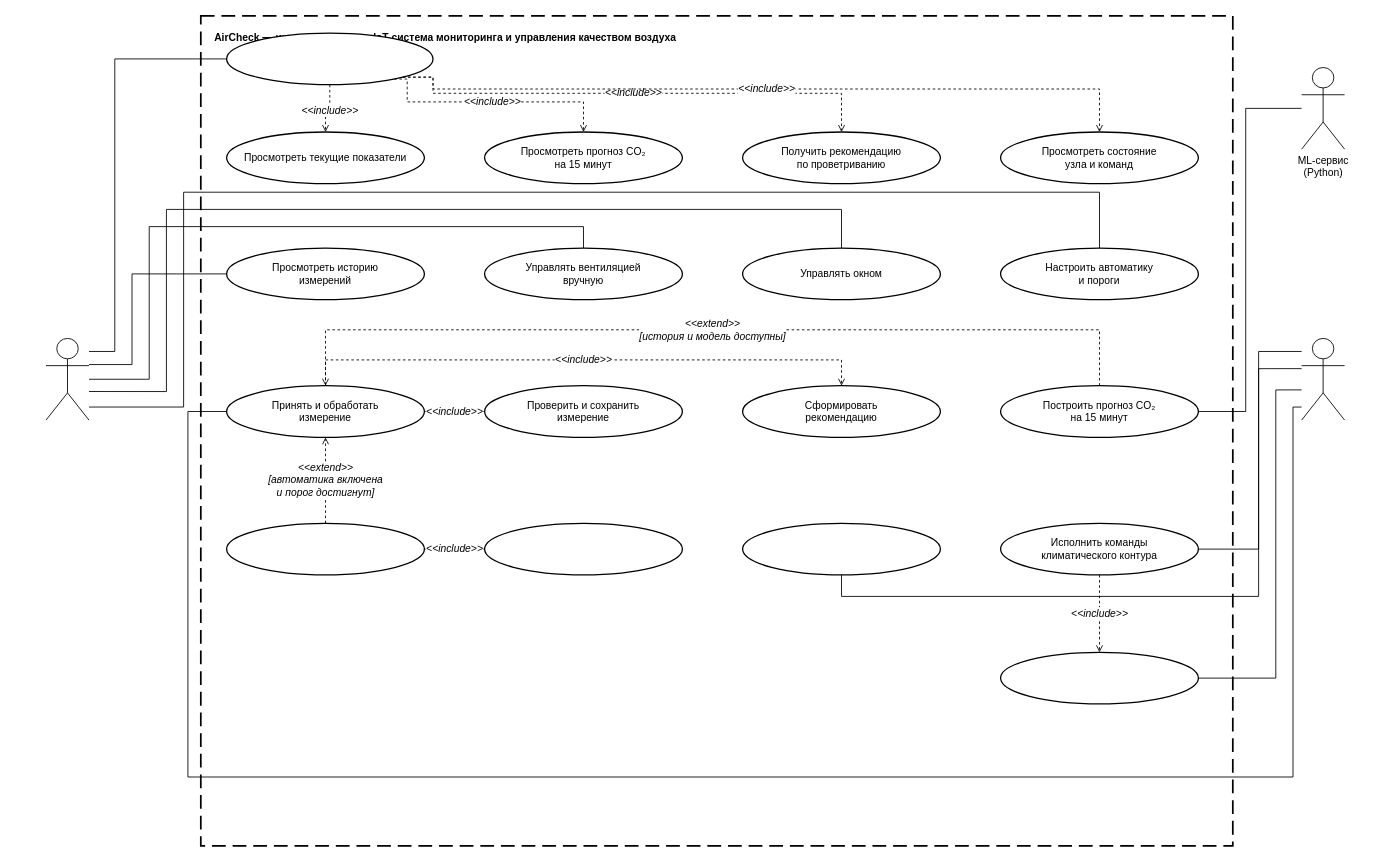
The diagram is 1382 pixels wide and 861 high, and some of its shapes have lost their labels. The shapes that lost their labels are listed below. From the top down, each one's box as (x1, y1, x2, y2) in pixels, then its label:
(226, 32, 433, 85): Просмотреть панель состояния
(45, 338, 89, 420): Оператор помещения
(1301, 338, 1345, 420): IoT-узел (simulator / ESP32)
(226, 522, 425, 575): Сформировать автоматические команды
(484, 522, 683, 575): Поставить команды в очередь
(742, 522, 941, 575): Получить pending-команды
(1000, 651, 1199, 704): Передать подтверждённое состояние
